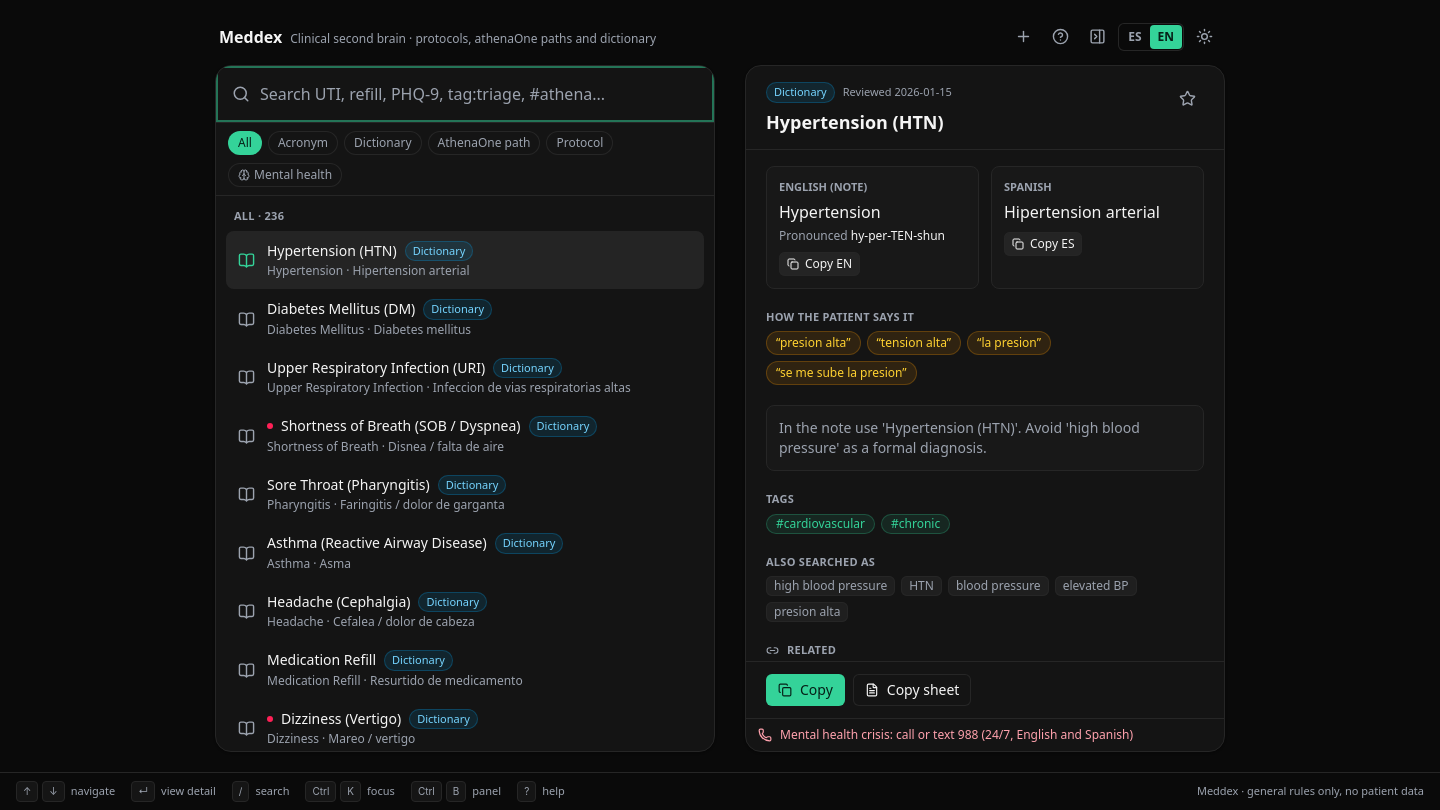
Test: idioma del contenido › el filtro de salud mental muestra protocolos de BH
Click the button "Mental health" at (285, 175), box [228,163,342,187]
(page scrolled)
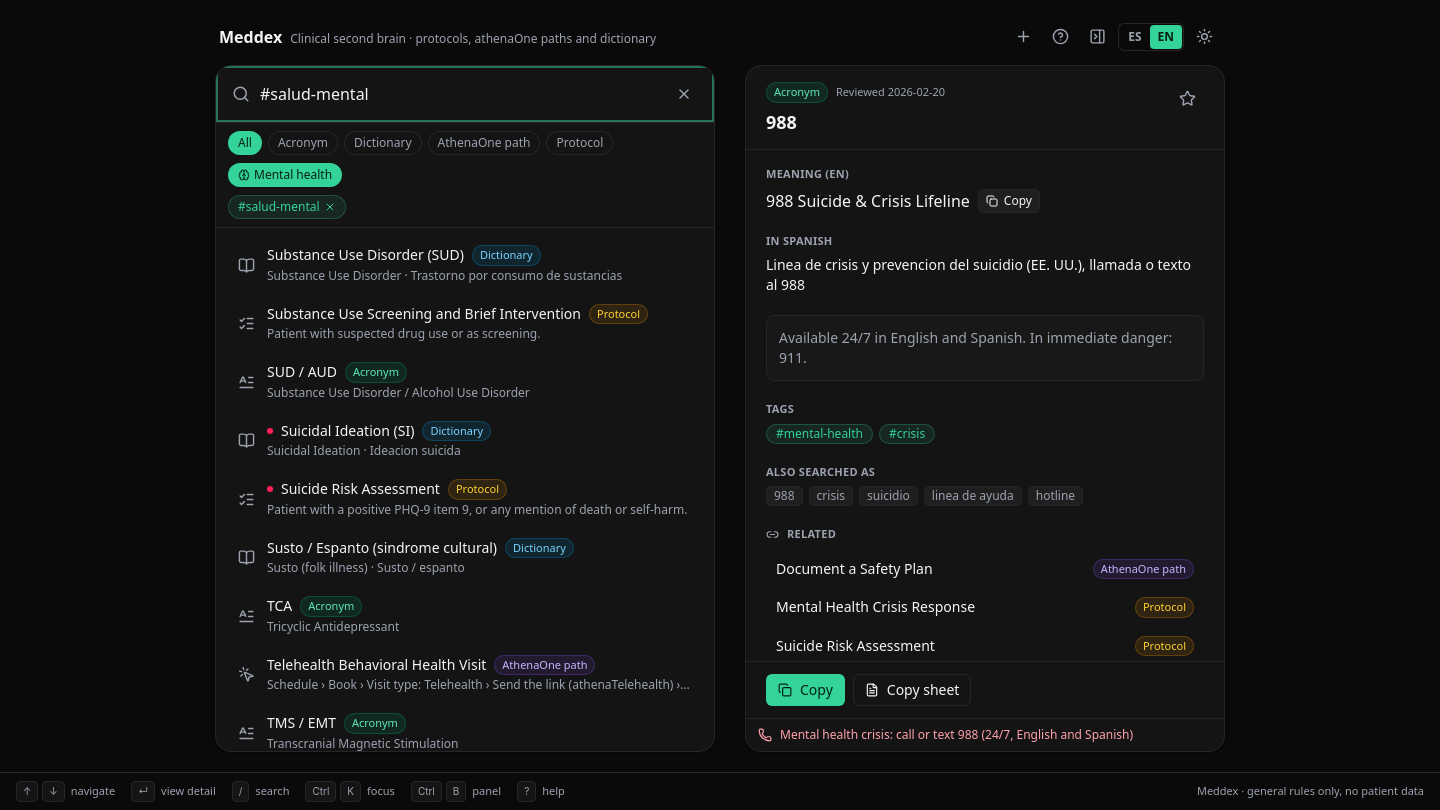
Now the 1st text "Suicide Risk Assessment" is shown, box [281,479,440,499]
